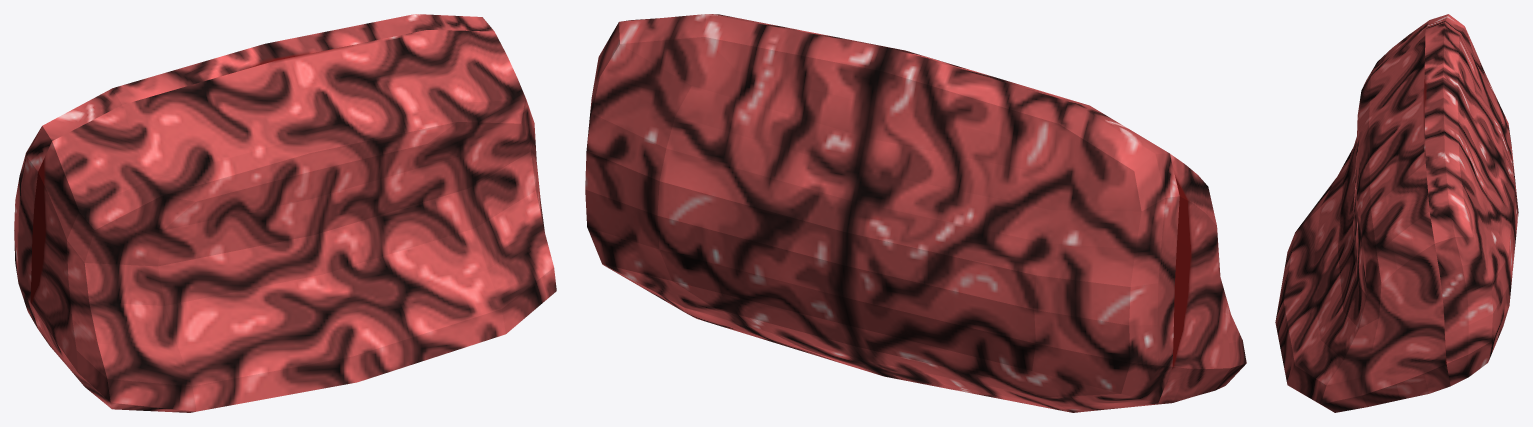
File: occipital.player.fbx
3 renders of one model, left to right at view 1: azimuth 30°, elevation 25°; view 2: azimuth 150°, elevation 25°; view 3: azimuth 270°, elevation 25°, orthographic. The views are drawn at different scales.
Visible parts, largest first — view 1: Occipital; view 2: Occipital; view 3: Occipital.
Boxes of the visible parts, <box> form: Occipital: <box>14,14,556,412</box>; Occipital: <box>585,14,1246,412</box>; Occipital: <box>1275,14,1518,412</box>.
Size of the model in its own units: 213 by 123 by 107.
1 material, 1 textured.
